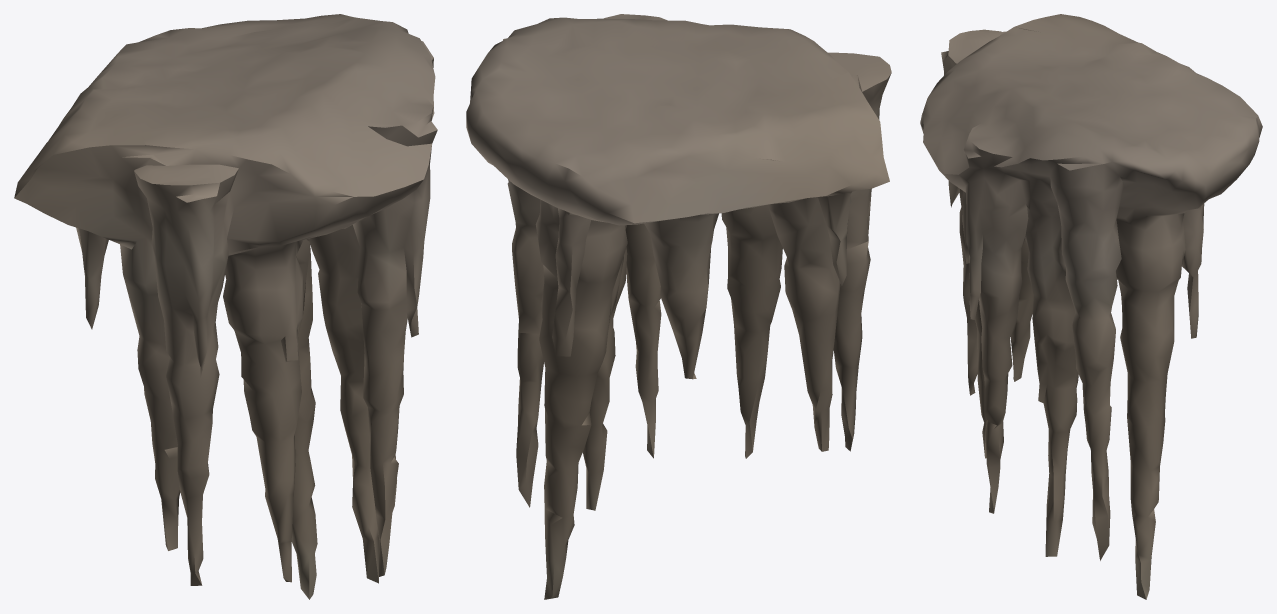
Rendered from stalactite_cluster_b.6cb126fb.glb.
3 renders of one model, left to right at view 1: azimuth 30°, elevation 25°; view 2: azimuth 150°, elevation 25°; view 3: azimuth 270°, elevation 25°, orthographic. The views are drawn at different scales.
Parts seen in each view (by area): view 1: stalactite_cluster_b; view 2: stalactite_cluster_b; view 3: stalactite_cluster_b.
Part boxes in pixels (x1,y1,x2,y2): stalactite_cluster_b: (14,14,437,599); stalactite_cluster_b: (466,14,891,599); stalactite_cluster_b: (920,14,1262,599).
Bounding box in the file's own units: 1.06 × 1.41 × 0.906.
